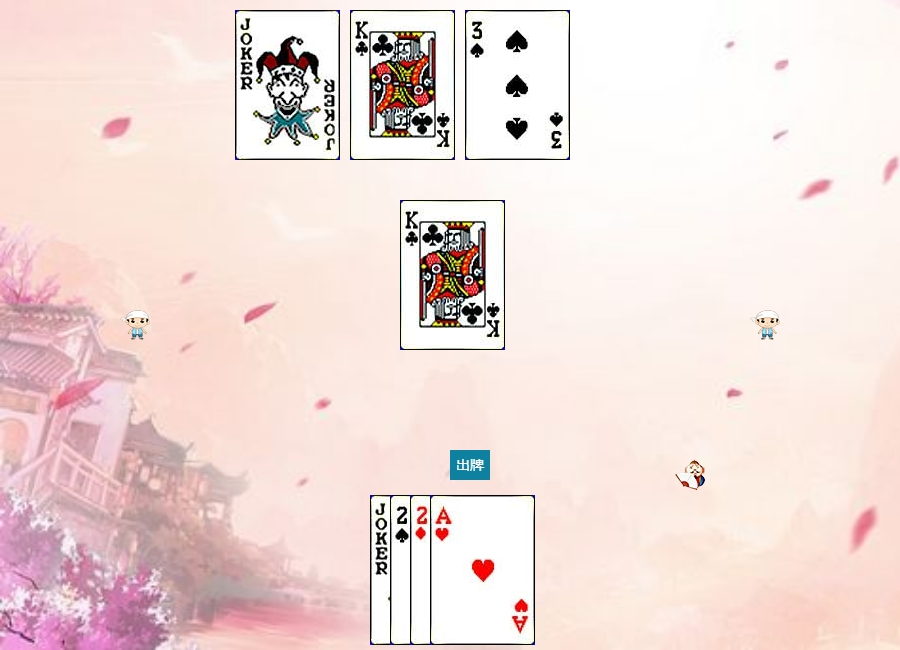13~2: (350, 10, 455, 160), (400, 200, 505, 350)
14~3: (430, 495, 535, 645)
15~1: (410, 495, 515, 645)
15~4: (390, 495, 495, 645)
17~3: (235, 10, 340, 160), (370, 495, 475, 645)
3~4: (465, 10, 570, 160)
